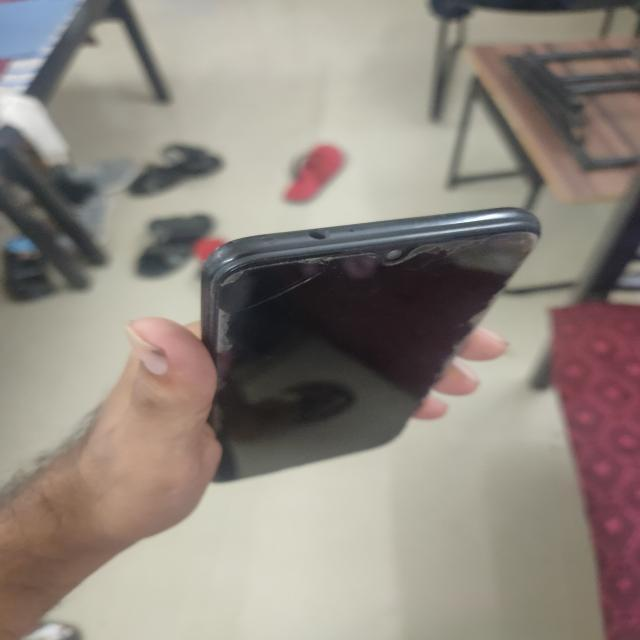Phone: (200, 206, 600, 506)
